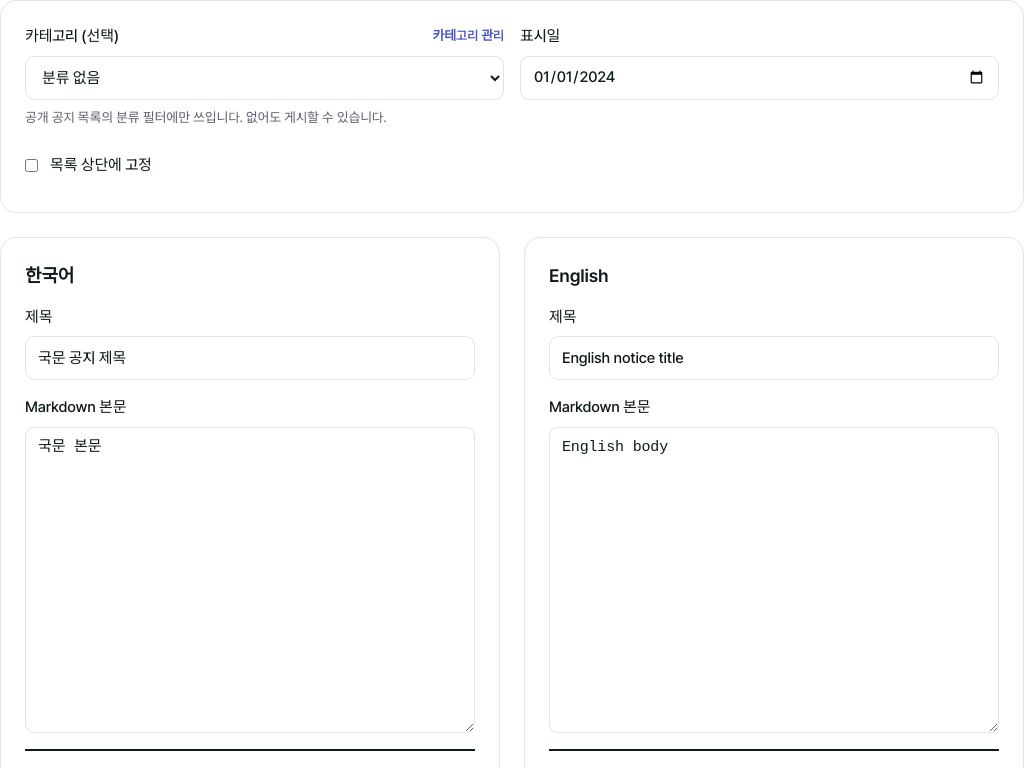
Test case: NoticeForm 저장 후 상태 갱신 › 저장에 성공하면 게시 버튼이 다시 활성화된다
Replace the text in the field labelled "제목" below "한국어" with "바뀐 제목" at (250, 358), box top-left (25, 336), bottom-right (475, 380)
(page scrolled)
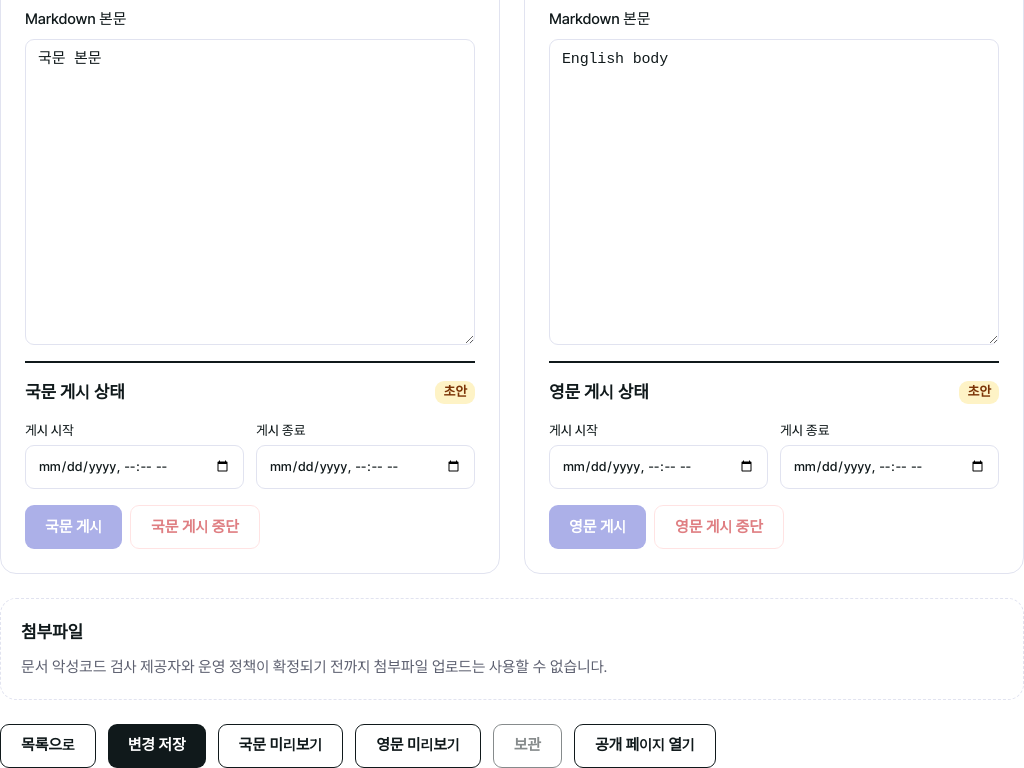
Check: the button "국문 게시" is disabled, box top-left (25, 505), bottom-right (122, 549)
Click the button "변경 저장".
click(157, 746)  # box top-left (108, 724), bottom-right (206, 767)
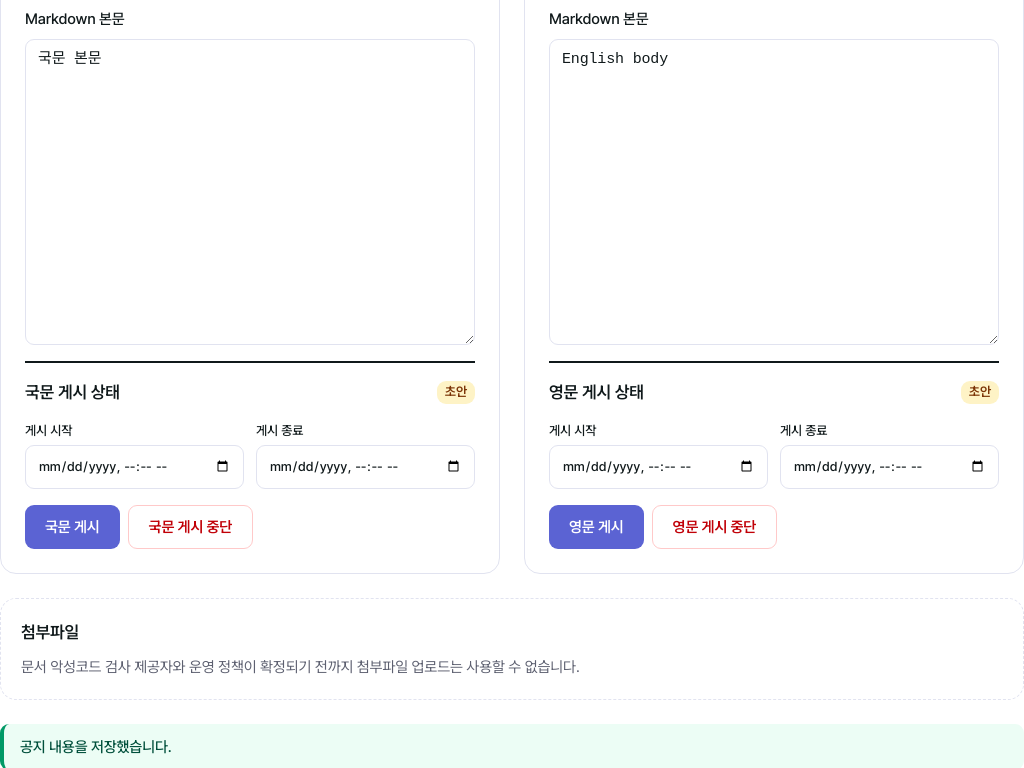
Check: the button "국문 게시" is enabled, box top-left (25, 505), bottom-right (120, 549)
